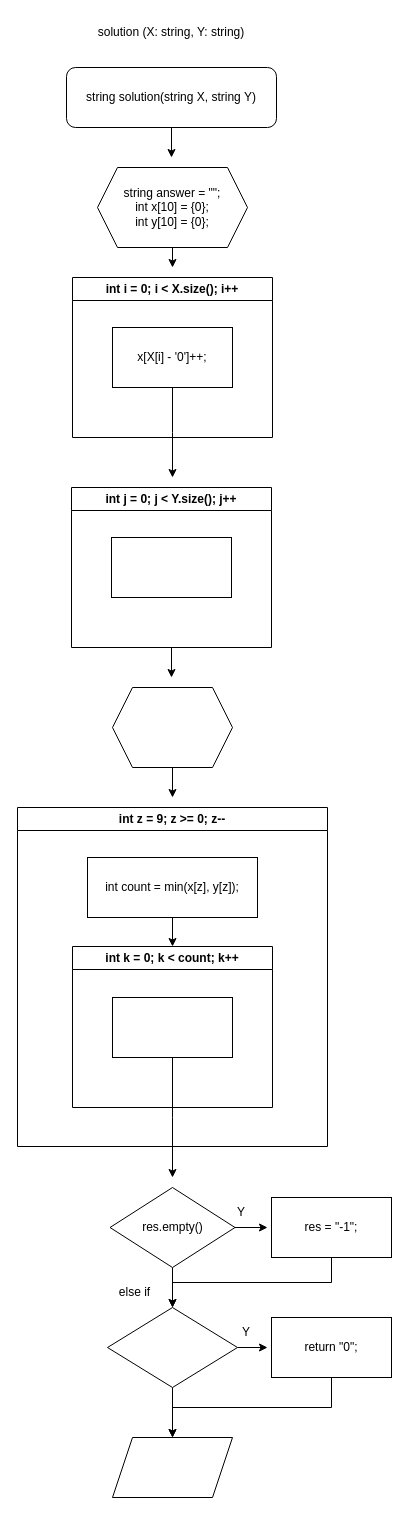
Some shapes in this 409 by 1515 pixel diagram are drawn without their labels. Each missing label, with the centre of its shape:
res += to_string(z);: pixel 172 1027
res[0] == '0': pixel 172 1347
return res;: pixel 172 1467
string res = " ";: pixel 172 727
y[Y[j] - '0']++;: pixel 171 567
